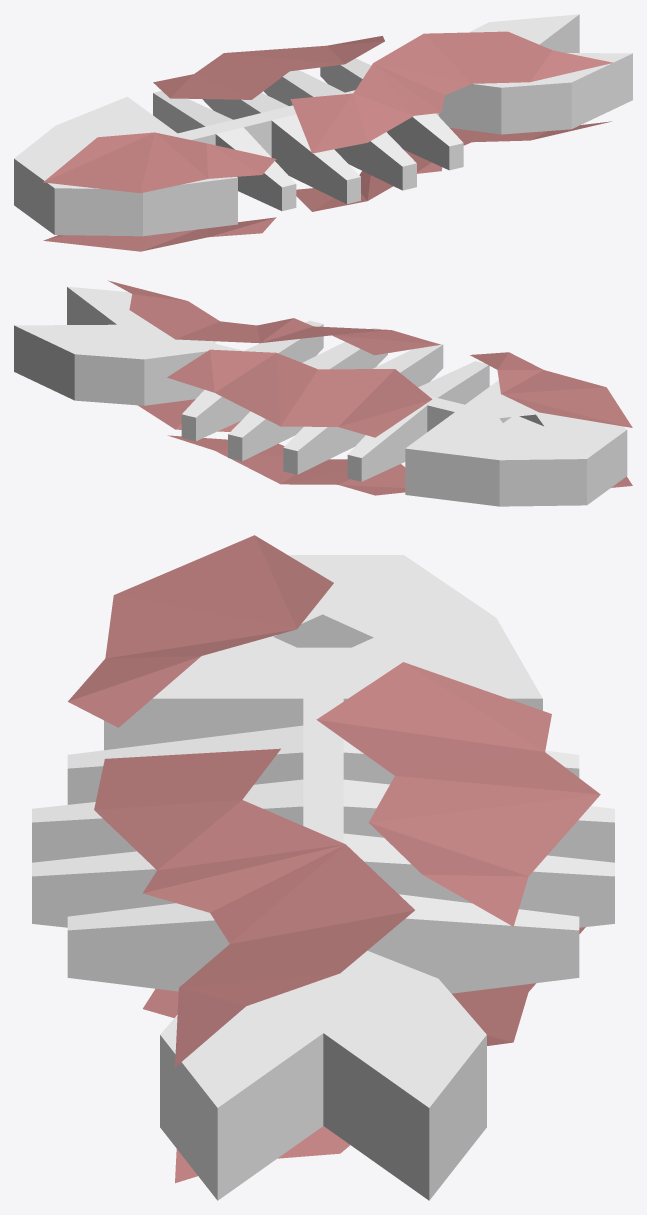
Rendered from Dead Fish 1.fbx.
3 views of the same model, one above another, from view 1: azimuth 30°, elevation 25°; view 2: azimuth 150°, elevation 25°; view 3: azimuth 270°, elevation 25° (orthographic). The views are drawn at different scales.
Visible parts, largest first — view 1: Box003; view 2: Box003; view 3: Box003.
Part boxes in pixels (x1,y1,x2,y2): Box003: (14, 14, 632, 251); Box003: (14, 280, 632, 506); Box003: (32, 535, 614, 1200).
Size of the model in its own units: 44.2 by 6.62 by 19.39.
Materials: 1 (1 with a texture image).
